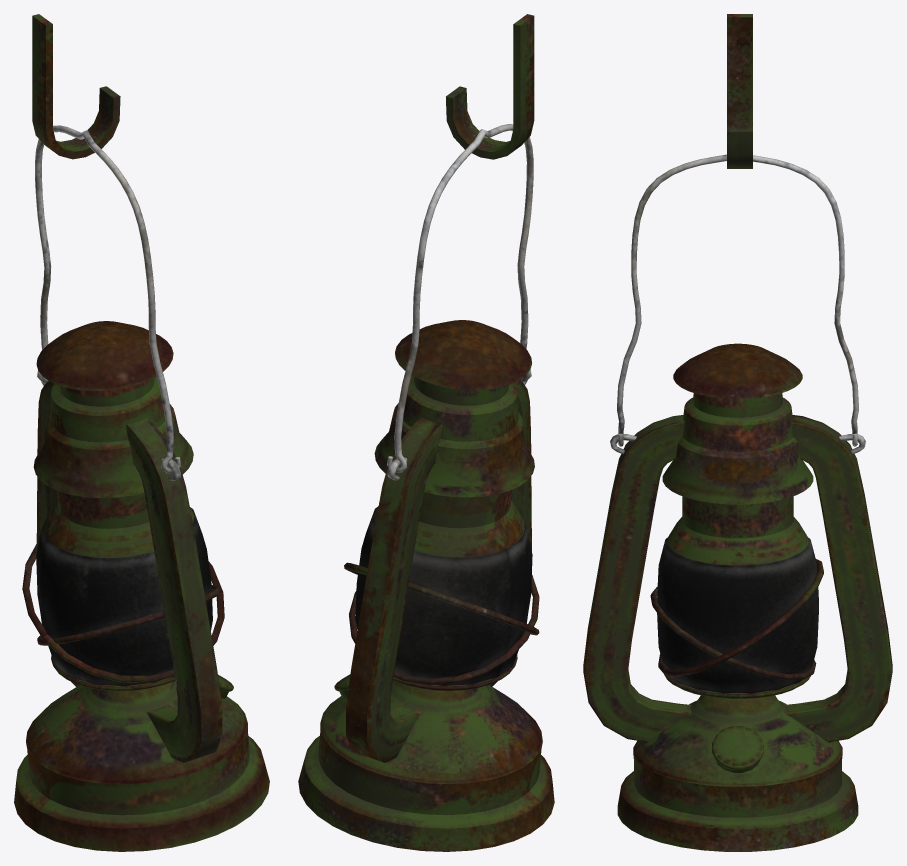
Rendered from Prop_OilLamp.fbx.
3 views of the same model, side by side, from view 1: azimuth 30°, elevation 25°; view 2: azimuth 150°, elevation 25°; view 3: azimuth 270°, elevation 25° (orthographic). The views are drawn at different scales.
Visible parts, largest first — view 1: Prop_OilLamp_Iron, Prop_OilLamp_Glass, Prop_OilLamp_Hook; view 2: Prop_OilLamp_Iron, Prop_OilLamp_Glass, Prop_OilLamp_Hook; view 3: Prop_OilLamp_Iron, Prop_OilLamp_Glass, Prop_OilLamp_Hook.
Boxes of the visible parts, x1=… form: Prop_OilLamp_Iron: x1=14, y1=125, x2=269, y2=851; Prop_OilLamp_Glass: x1=36, y1=507, x2=212, y2=686; Prop_OilLamp_Hook: x1=32, y1=14, x2=120, y2=159; Prop_OilLamp_Iron: x1=298, y1=124, x2=554, y2=851; Prop_OilLamp_Glass: x1=355, y1=506, x2=532, y2=685; Prop_OilLamp_Hook: x1=446, y1=14, x2=534, y2=159; Prop_OilLamp_Iron: x1=583, y1=154, x2=892, y2=851; Prop_OilLamp_Glass: x1=657, y1=537, x2=818, y2=693; Prop_OilLamp_Hook: x1=727, y1=14, x2=752, y2=168.
Size of the model in its own units: 10.55 by 36.82 by 13.58.
